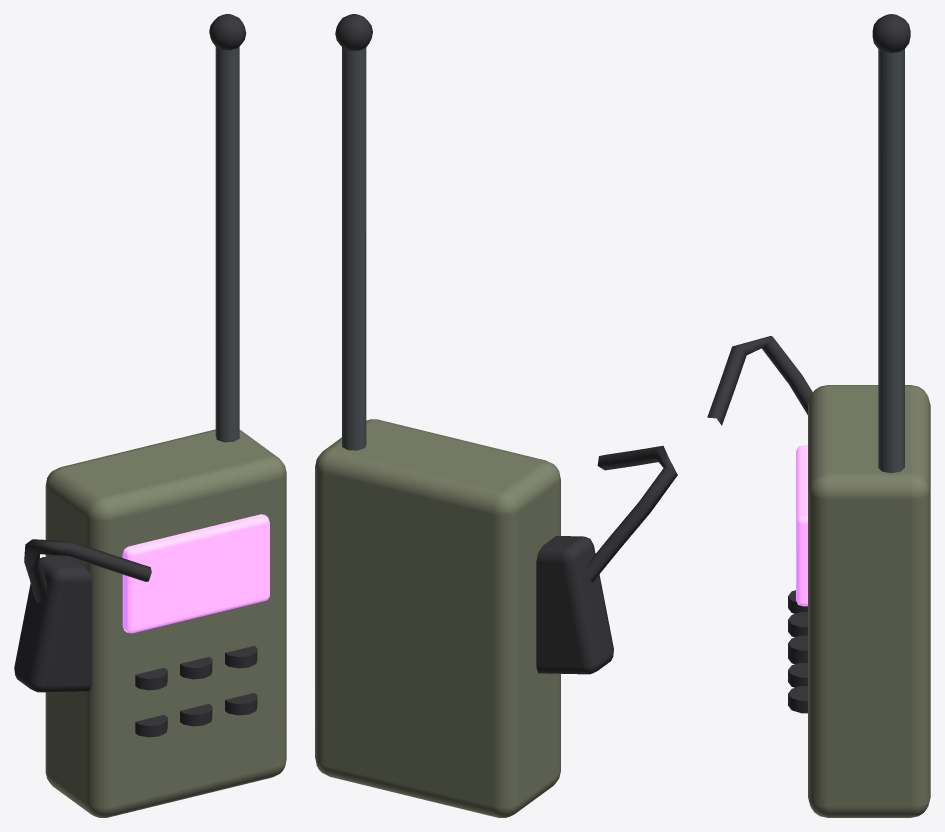
The model's file is battle-royale-town-and-airfield-killstreak-radio-8b66d682__28236.glb.
3 views of the same model, side by side, from view 1: azimuth 30°, elevation 25°; view 2: azimuth 150°, elevation 25°; view 3: azimuth 270°, elevation 25° (orthographic). The views are drawn at different scales.
Parts seen in each view (by area): view 1: killstreak-radio; view 2: killstreak-radio; view 3: killstreak-radio.
Part boxes in pixels (bbox=[...]): killstreak-radio: bbox=[14, 14, 286, 817]; killstreak-radio: bbox=[315, 14, 677, 817]; killstreak-radio: bbox=[707, 14, 930, 817].
Bounding box in the file's own units: 0.3175 × 0.788 × 0.2013.
